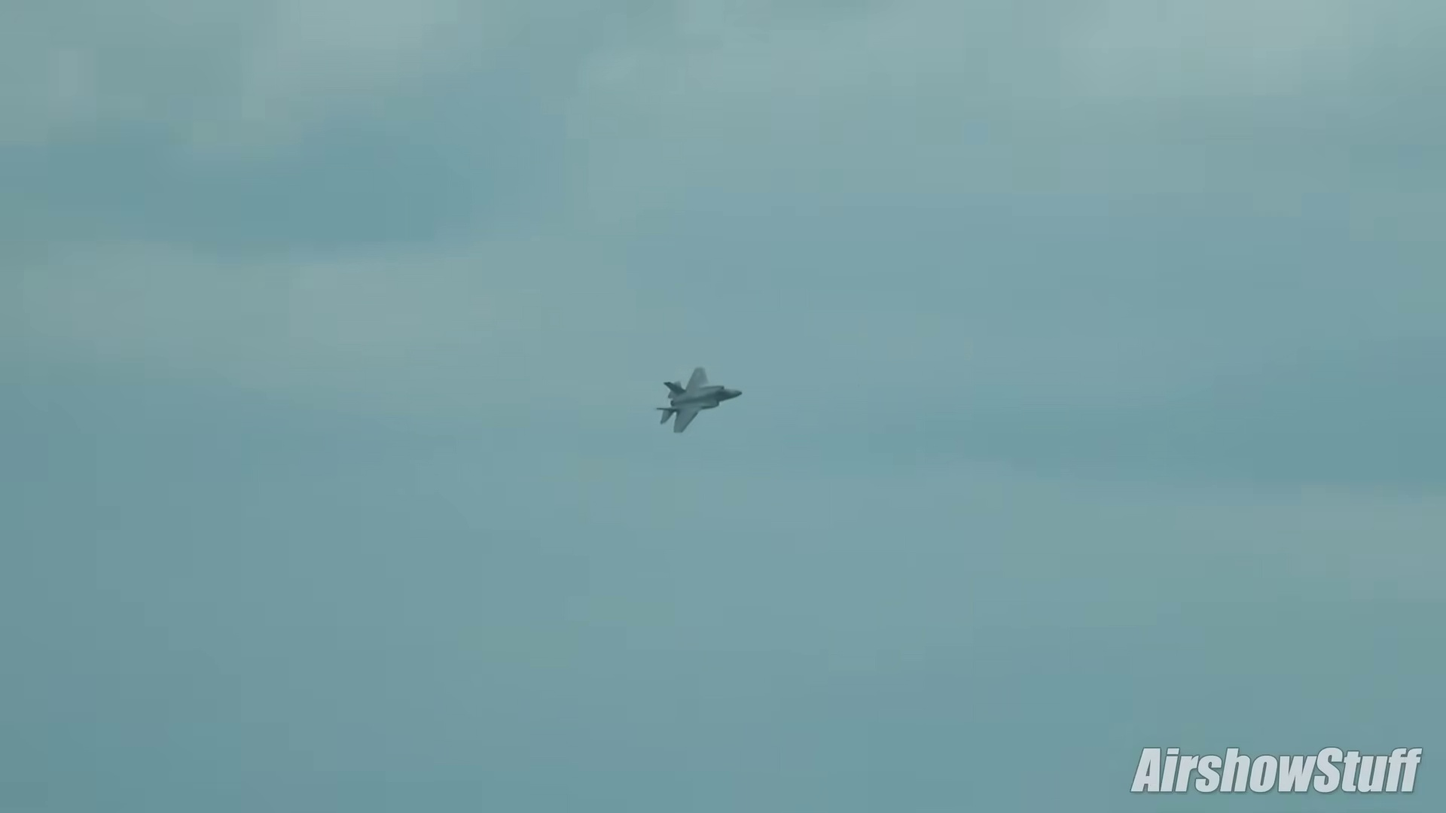F35: (653, 359, 745, 437)
